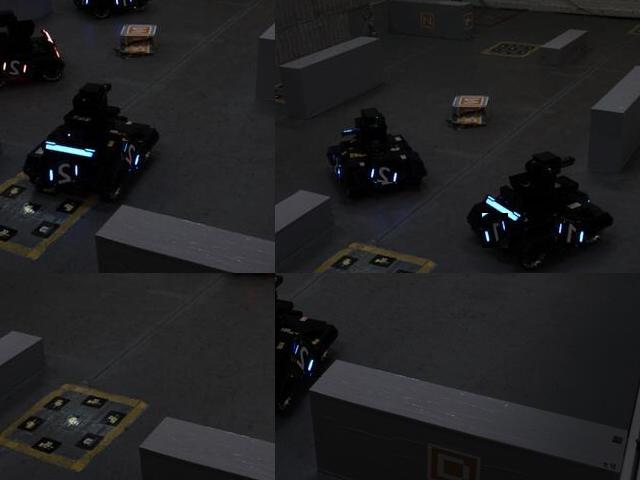armor: (291, 339, 322, 378), (45, 161, 86, 189), (482, 213, 509, 249), (555, 218, 586, 249), (1, 54, 34, 79), (121, 142, 146, 171), (368, 163, 402, 184), (107, 0, 134, 9), (73, 0, 93, 7)
